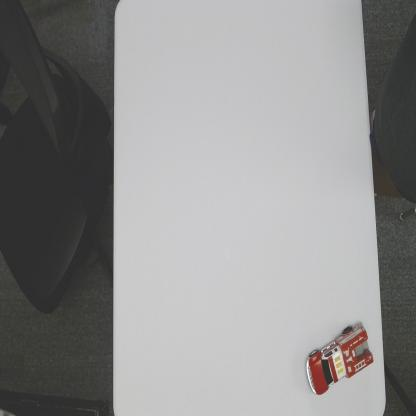Firetruck: (305, 318, 374, 398)
